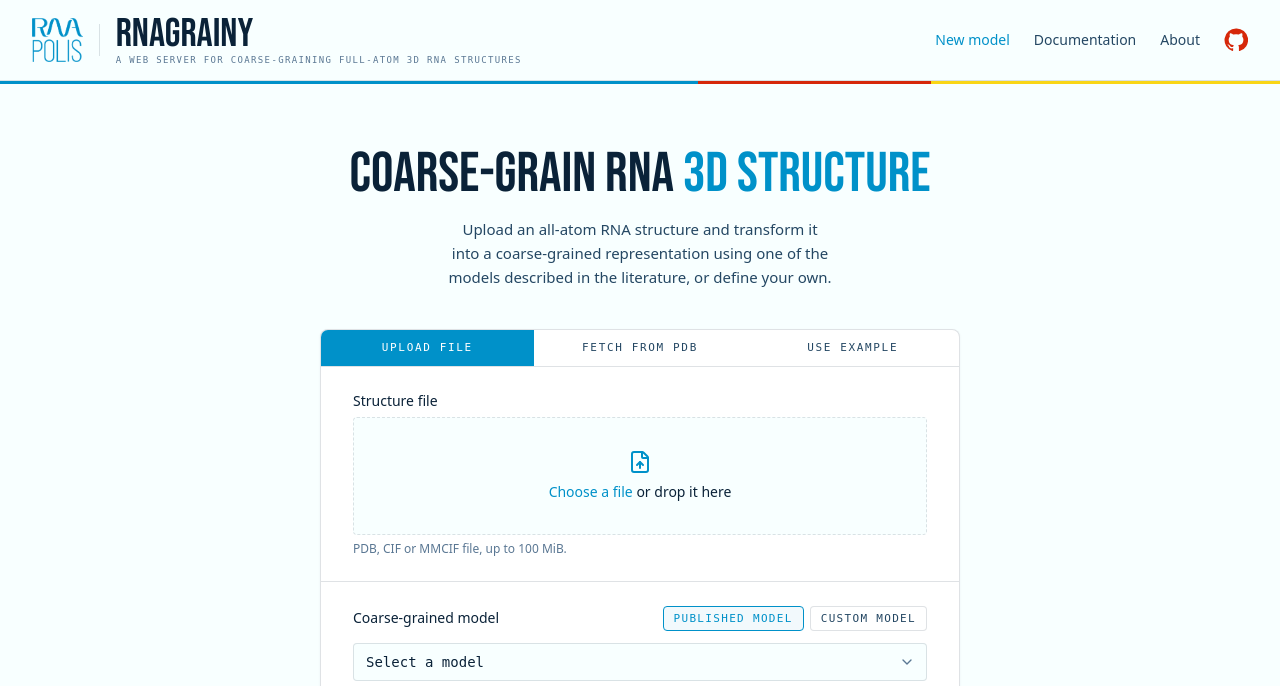
Test: UploadForm › still processes the structure when viewer preloading fails
Click the tab "Use example": (853, 348) [746,330,959,366]
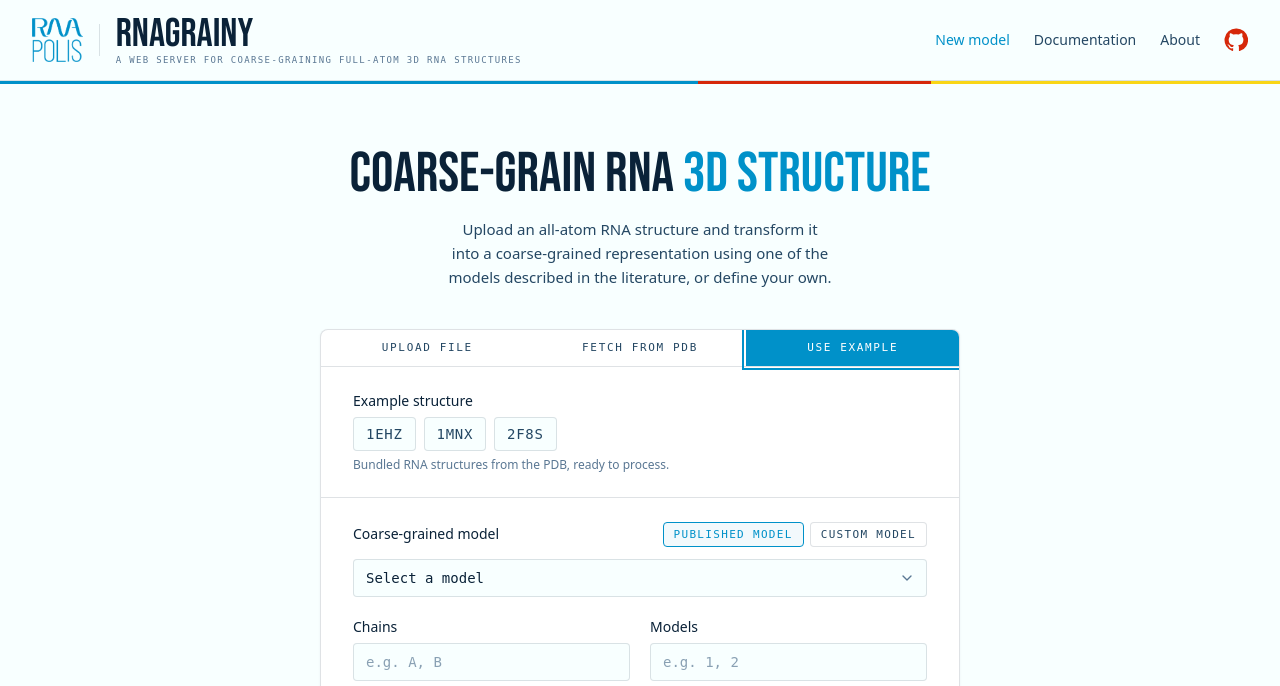
Click the radio button labelled "1MNX": (455, 434) [424,417,486,451]
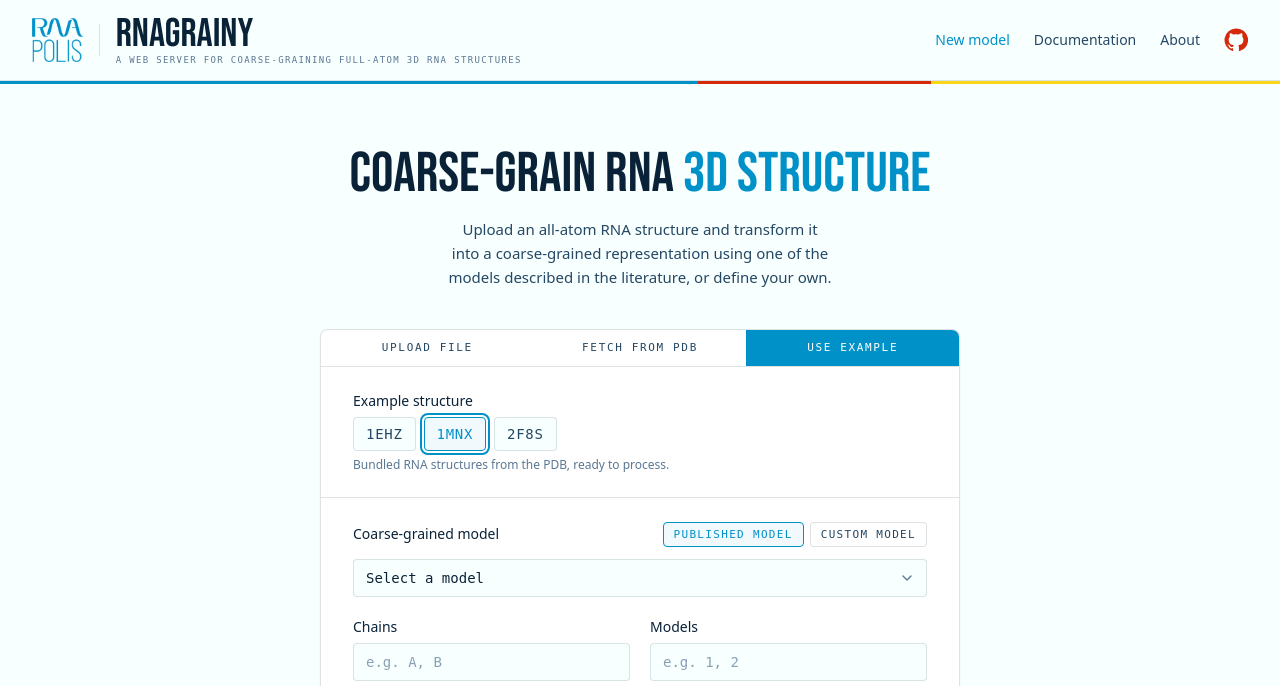
Select "SimRNA" in the dropdown labelled "Coarse-grained model": (640, 578) [353,559,927,597]
(page scrolled)
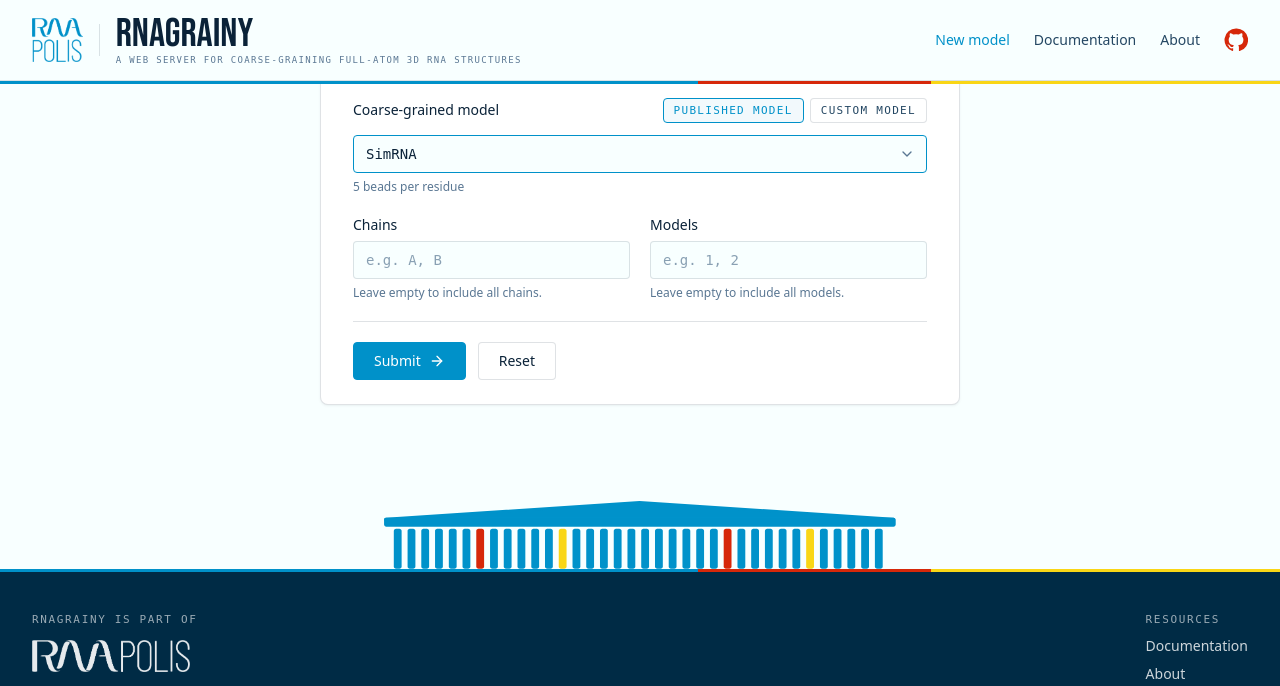
Click the button "Submit": (409, 361) [353,342,466,380]
(page scrolled)
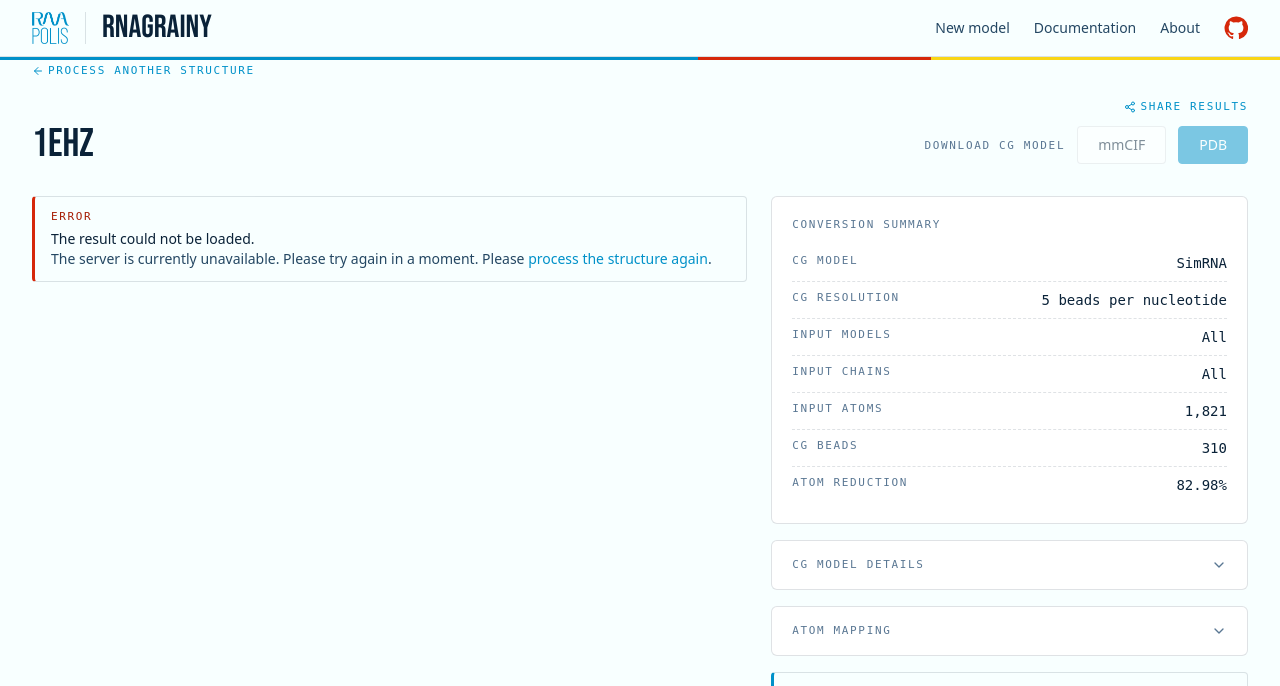
expect the element "Conversion summary" is shown: met, box [771,196,1248,524]
